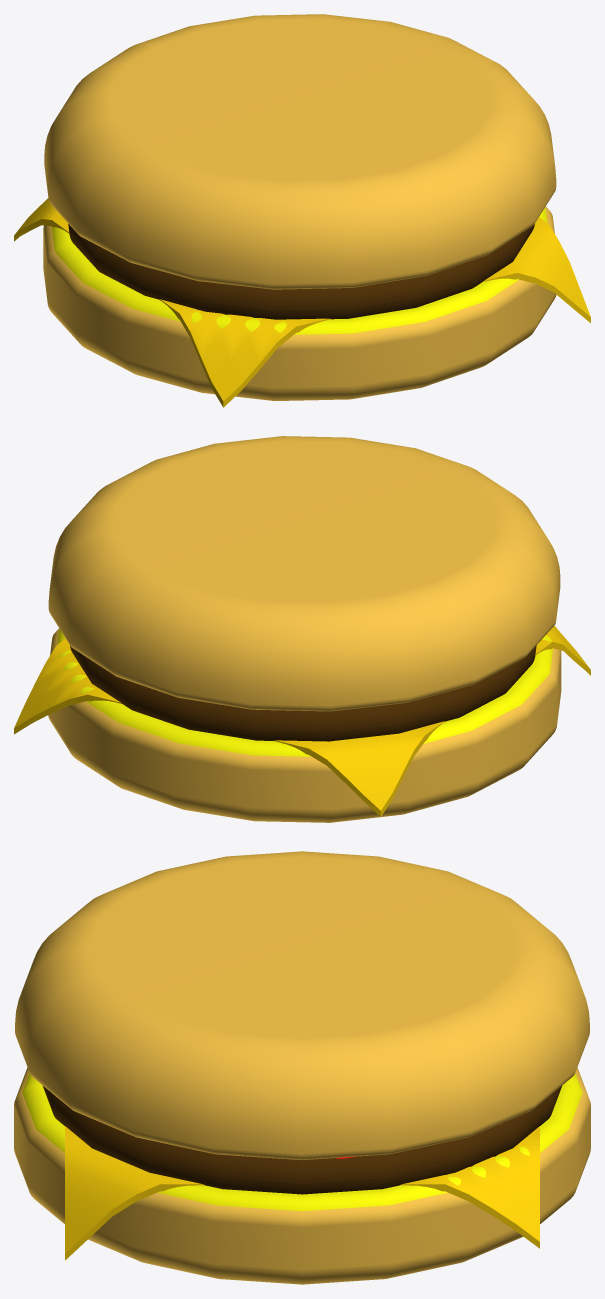
The model's file is burger.gltf.
3 views of the same model, one above another, from view 1: azimuth 30°, elevation 25°; view 2: azimuth 150°, elevation 25°; view 3: azimuth 270°, elevation 25° (orthographic). The views are drawn at different scales.
Visible parts, largest first — view 1: pCylinder9, pCylinder1, pCylinder3, pCube1, pCylinder2; view 2: pCylinder9, pCylinder1, pCylinder3, pCube1, pCylinder2; view 3: pCylinder9, pCylinder1, pCylinder3, pCube1, pCylinder2.
Part boxes in pixels (x1,y1,x2,y2): pCylinder9: (44,14,556,289); pCylinder1: (43,206,556,400); pCylinder3: (68,223,534,319); pCube1: (14,198,590,407); pCylinder2: (51,207,547,334); pCylinder9: (48,436,560,711); pCylinder1: (48,628,561,822); pCylinder3: (70,645,536,741); pCube1: (14,625,590,816); pCylinder2: (57,629,552,756); pCylinder9: (15,851,589,1160); pCylinder1: (14,1067,590,1284); pCylinder3: (43,1086,561,1194); pCube1: (65,1126,539,1260); pCylinder2: (22,1073,582,1211).
Size of the model in its own units: 0.3434 by 0.1501 by 0.3434.
